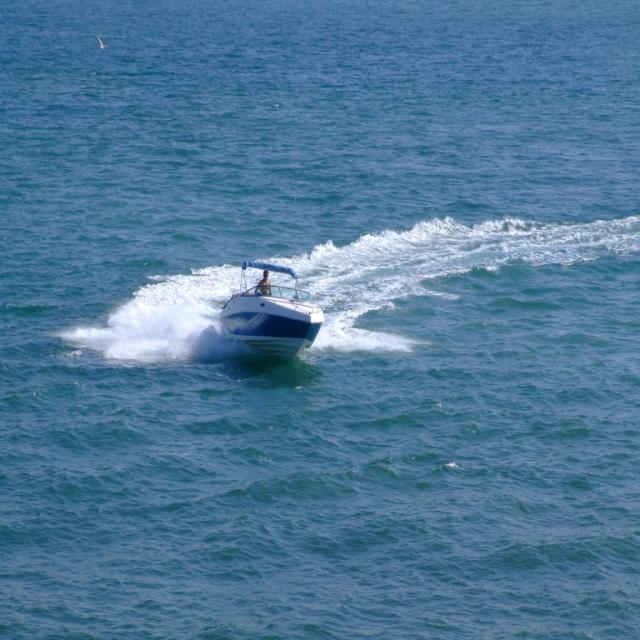Boat: (220, 256, 323, 367)
